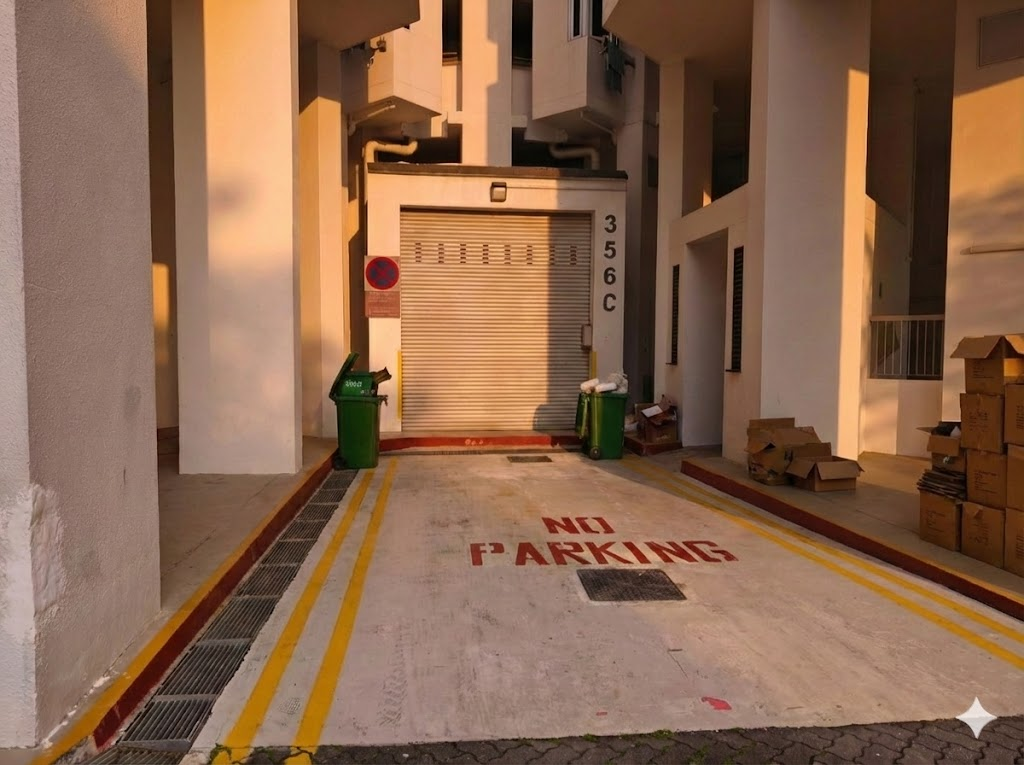bin_full: (329, 352, 390, 468), (576, 373, 627, 459)
bulk_waste: (748, 426, 829, 483), (951, 333, 1023, 394), (918, 431, 965, 497), (961, 502, 1004, 567), (787, 455, 861, 491), (961, 393, 1003, 452), (921, 491, 961, 551), (967, 450, 1005, 507), (640, 405, 677, 442), (1004, 508, 1023, 576), (1004, 383, 1023, 445), (1005, 446, 1023, 510)
